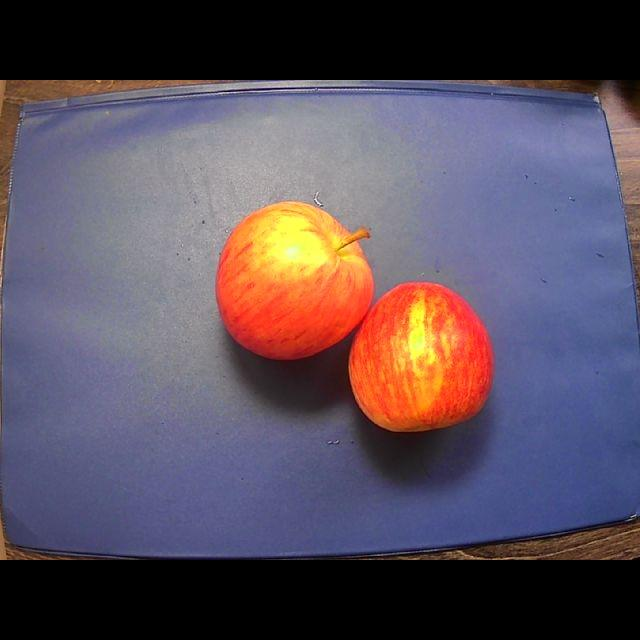manzana: (216, 201, 373, 358), (349, 283, 493, 431)
